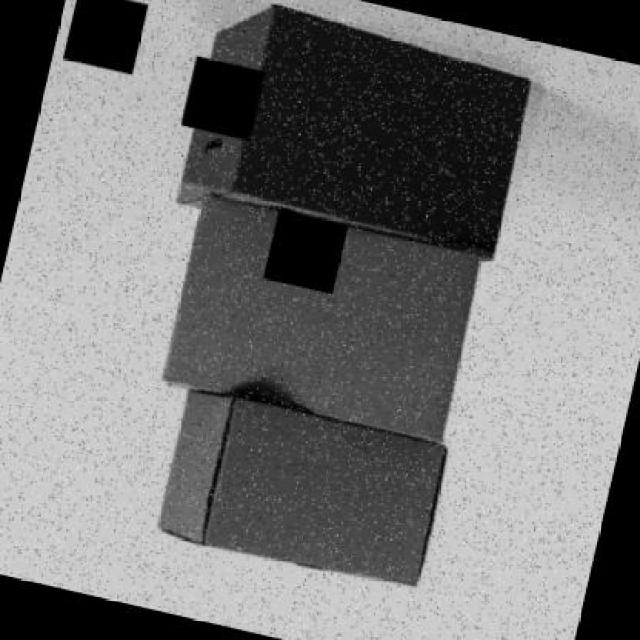box: (108, 176, 520, 447), (158, 0, 547, 255), (137, 378, 465, 612)
